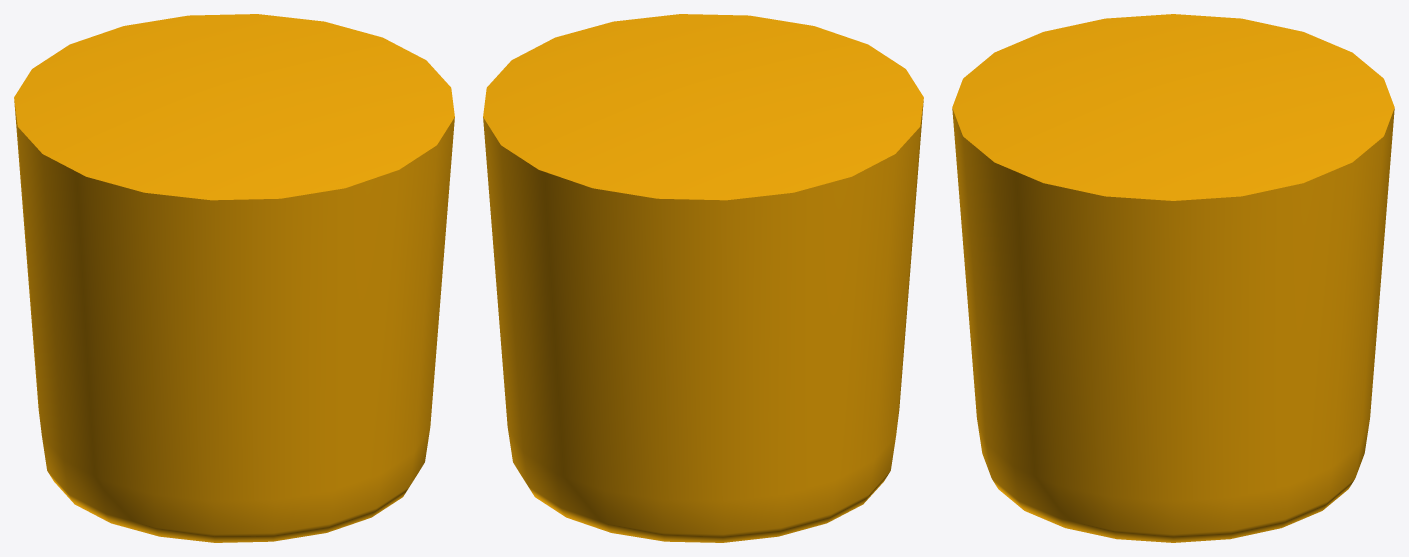
Rendered from juice.fbx.
3 renders of one model, left to right at view 1: azimuth 30°, elevation 25°; view 2: azimuth 150°, elevation 25°; view 3: azimuth 270°, elevation 25°, orthographic.
Visible parts, largest first — view 1: juice_cup1; view 2: juice_cup1; view 3: juice_cup1.
Part boxes in pixels (x1=…): juice_cup1: x1=14, y1=14, x2=454, y2=542; juice_cup1: x1=483, y1=14, x2=923, y2=542; juice_cup1: x1=952, y1=14, x2=1394, y2=542.
Size of the model in its own units: 1.9 by 1.76 by 1.9.
